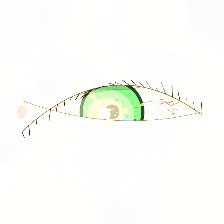corneal_ulcer: (75, 90, 136, 139)
